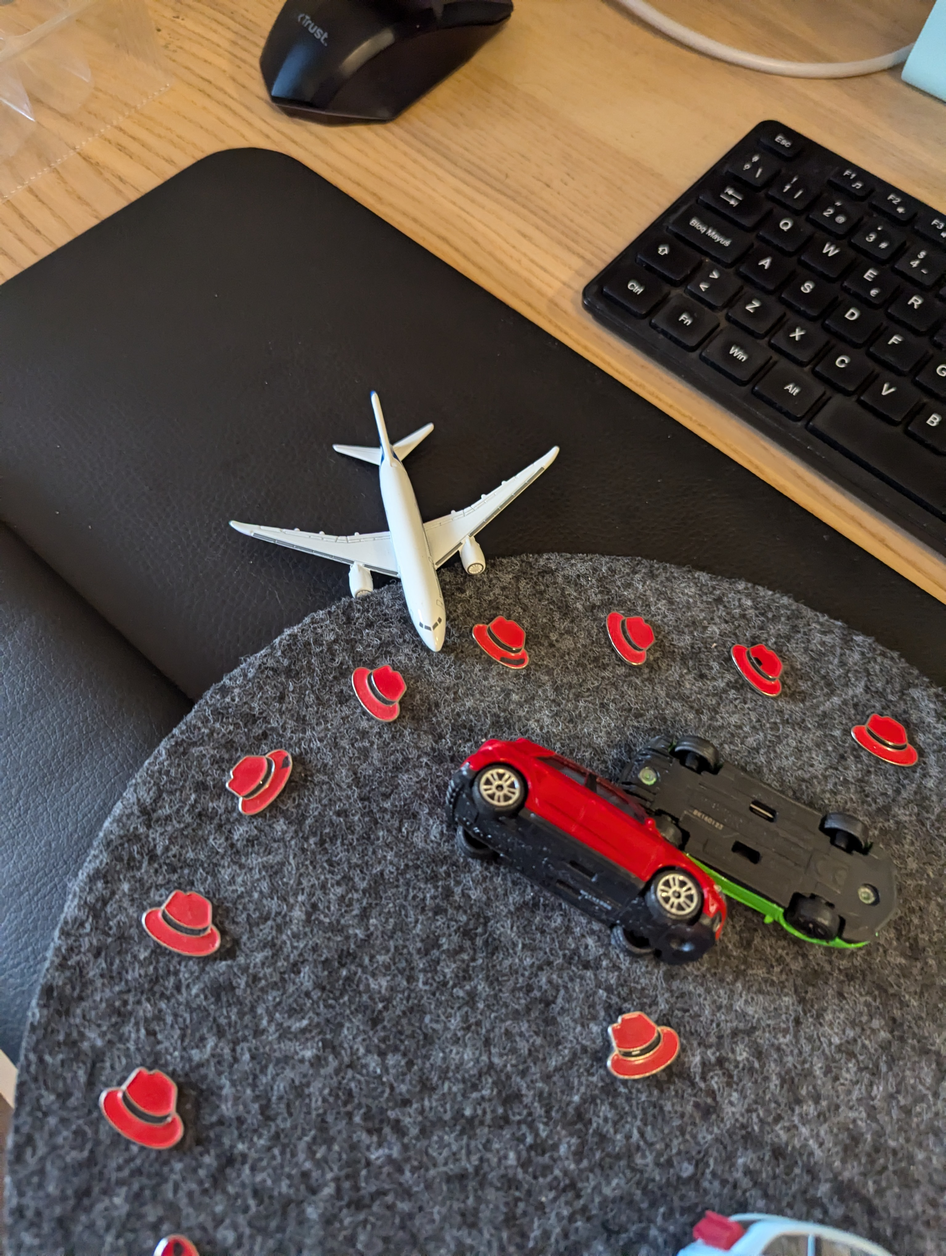Airplane: (189, 363, 629, 668)
Car: (440, 720, 763, 992), (566, 723, 906, 976)
Red-Hat: (75, 1047, 215, 1172), (578, 1001, 719, 1100), (124, 883, 246, 968), (212, 736, 307, 831), (714, 629, 814, 716), (840, 692, 933, 775), (454, 598, 544, 681), (594, 589, 670, 683), (336, 652, 418, 735)
Scratch: (492, 648, 540, 670), (743, 646, 772, 669), (273, 753, 303, 775)
